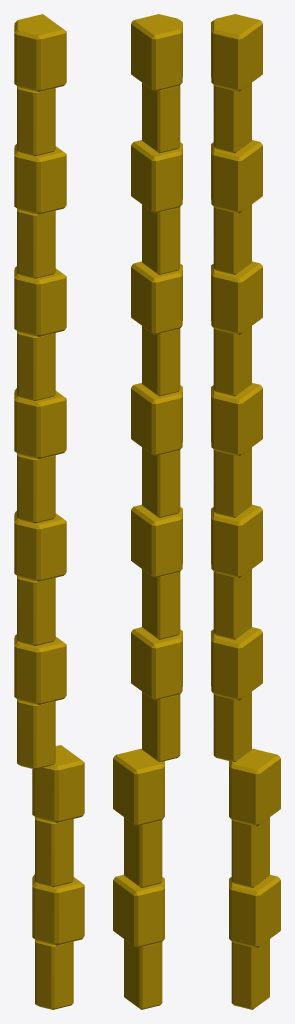
The model's file is Large Gold Trim.fbx.
The picture shows the model from 3 angles, left to right: view 1: azimuth 30°, elevation 25°; view 2: azimuth 210°, elevation 25°; view 3: azimuth 330°, elevation 25°; orthographic projection.
Visible parts, largest first — view 1: pCube33; view 2: pCube33; view 3: pCube33.
Boxes of the visible parts, x1=… form: pCube33: x1=14, y1=14, x2=84, y2=1009; pCube33: x1=113, y1=14, x2=182, y2=1009; pCube33: x1=211, y1=14, x2=280, y2=1009.
Bounding box in the file's own units: 29.56 × 471 × 21.09.
